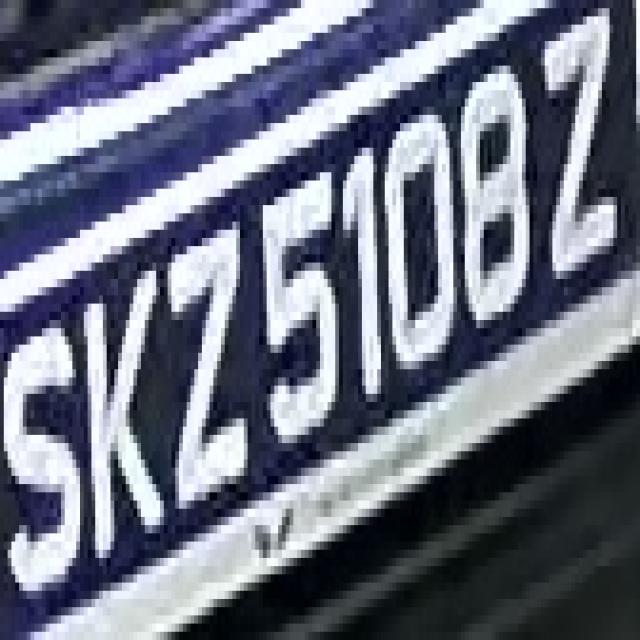0: (377, 82, 469, 394)
1: (343, 99, 388, 443)
5: (252, 180, 346, 452)
8: (446, 58, 530, 328)
K: (76, 255, 164, 574)
S: (11, 304, 84, 616)
Z: (149, 230, 255, 533), (530, 0, 624, 304)
